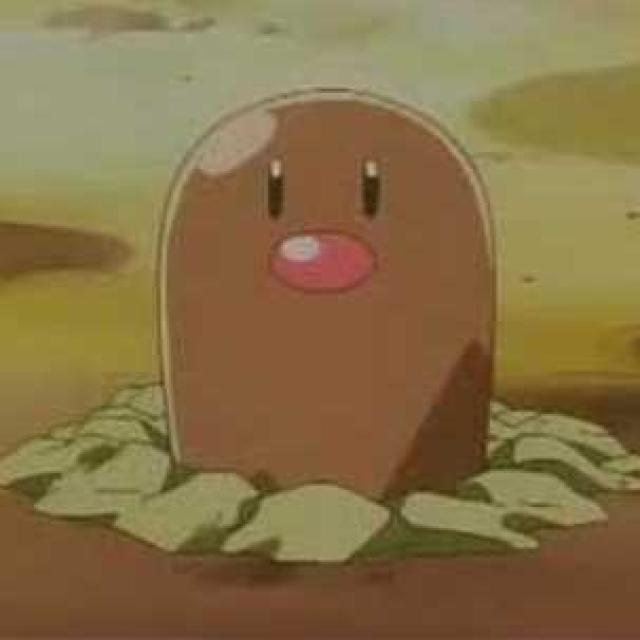Diglett: (160, 86, 500, 483)
